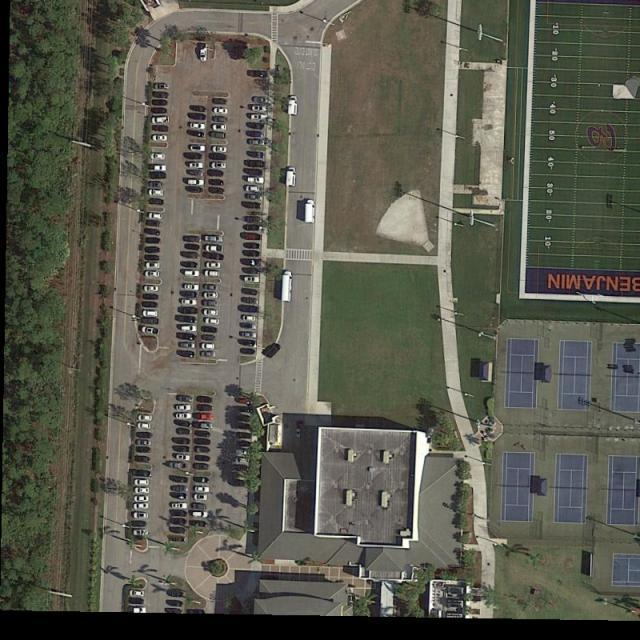vehicle: (283, 270, 293, 303), (303, 199, 316, 224), (239, 230, 263, 242), (265, 344, 282, 360), (286, 166, 298, 187), (203, 251, 225, 262), (168, 587, 186, 600), (140, 326, 161, 337), (288, 95, 298, 118), (131, 510, 150, 522), (174, 418, 193, 430), (176, 314, 198, 324), (144, 226, 162, 238), (132, 476, 150, 488), (198, 42, 208, 63), (150, 115, 170, 125), (210, 144, 230, 154), (177, 332, 197, 342), (164, 606, 186, 615), (238, 338, 256, 349), (170, 491, 188, 502), (208, 130, 227, 140), (166, 598, 185, 608), (242, 201, 263, 210), (245, 122, 266, 131), (168, 474, 189, 483), (211, 115, 228, 126), (243, 160, 266, 168), (243, 168, 263, 177), (241, 258, 261, 267), (132, 486, 150, 496), (130, 494, 150, 503), (133, 470, 153, 479), (171, 445, 191, 454), (171, 437, 191, 446), (205, 244, 225, 253), (246, 70, 268, 78), (211, 122, 227, 133), (246, 150, 265, 159), (209, 152, 228, 161), (186, 129, 205, 138), (206, 169, 225, 178), (242, 242, 261, 251), (194, 429, 213, 438), (239, 330, 258, 339), (241, 297, 260, 306), (183, 235, 202, 244), (189, 144, 206, 154), (190, 104, 207, 114), (197, 395, 214, 405), (238, 306, 259, 314), (186, 168, 204, 177), (188, 121, 206, 130), (190, 519, 208, 528), (194, 437, 212, 446), (191, 510, 209, 519), (169, 526, 187, 535), (185, 186, 205, 194), (149, 188, 165, 198), (214, 106, 230, 116), (250, 105, 270, 113), (194, 422, 214, 430), (194, 476, 210, 486), (178, 306, 198, 314), (176, 350, 196, 358), (242, 287, 258, 297), (142, 293, 159, 302), (209, 186, 226, 195), (152, 98, 169, 107), (153, 91, 170, 100), (152, 82, 169, 91), (191, 502, 208, 511), (246, 176, 265, 184), (246, 130, 265, 138), (148, 164, 167, 172), (174, 405, 193, 413), (247, 138, 266, 146), (181, 251, 200, 259), (239, 322, 258, 330), (205, 234, 224, 242), (169, 518, 188, 526), (176, 427, 191, 437), (150, 172, 168, 180), (187, 178, 205, 186), (152, 125, 170, 133), (149, 212, 165, 221), (243, 250, 261, 258), (243, 224, 261, 232), (142, 309, 158, 318), (175, 394, 193, 402), (180, 260, 198, 268), (181, 298, 197, 307), (242, 314, 258, 323), (130, 589, 146, 598), (201, 326, 219, 334), (202, 283, 218, 292), (194, 492, 208, 502), (212, 98, 229, 106), (210, 162, 227, 170), (245, 193, 262, 201), (148, 198, 165, 206), (208, 178, 225, 186), (132, 503, 149, 511), (184, 243, 201, 251), (184, 283, 201, 291), (181, 290, 198, 298), (172, 502, 189, 510), (202, 300, 219, 308), (252, 95, 267, 104), (246, 184, 261, 193), (195, 485, 210, 494), (204, 308, 219, 317), (187, 113, 206, 120), (128, 606, 147, 613), (188, 162, 204, 170), (153, 134, 169, 142), (144, 285, 160, 293), (146, 220, 162, 228), (245, 215, 261, 223), (250, 113, 266, 121), (142, 301, 158, 309), (134, 455, 150, 463), (198, 404, 214, 412), (194, 446, 210, 454), (195, 454, 211, 462), (170, 461, 186, 469), (136, 431, 152, 439), (240, 348, 256, 356), (205, 270, 221, 278), (170, 485, 188, 492), (178, 342, 196, 349), (170, 510, 188, 517), (202, 342, 216, 351), (151, 152, 166, 160), (145, 270, 160, 278), (146, 262, 161, 270), (136, 446, 151, 454), (184, 270, 199, 278), (202, 350, 217, 358), (202, 334, 217, 342), (204, 292, 219, 300), (186, 153, 203, 160), (145, 238, 162, 245), (142, 318, 159, 325), (176, 413, 193, 420), (180, 325, 197, 332), (133, 529, 150, 536), (145, 246, 161, 253), (149, 181, 163, 189), (194, 463, 210, 470), (236, 423, 250, 431), (138, 422, 152, 430), (139, 414, 153, 422), (245, 276, 259, 284), (129, 598, 145, 605), (206, 318, 220, 326), (206, 262, 222, 269), (146, 254, 161, 261), (176, 454, 191, 461), (137, 439, 152, 446), (235, 458, 250, 465), (238, 414, 251, 422), (235, 463, 248, 471), (236, 406, 253, 412), (242, 268, 259, 274), (238, 398, 252, 405), (201, 414, 214, 421), (238, 432, 251, 439), (171, 536, 186, 542), (131, 521, 146, 527), (238, 442, 252, 448), (237, 449, 249, 456), (233, 481, 246, 487), (296, 429, 301, 439)
